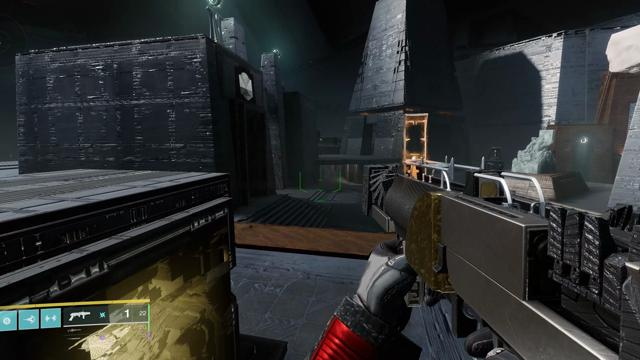commune: (239, 73, 253, 100)
